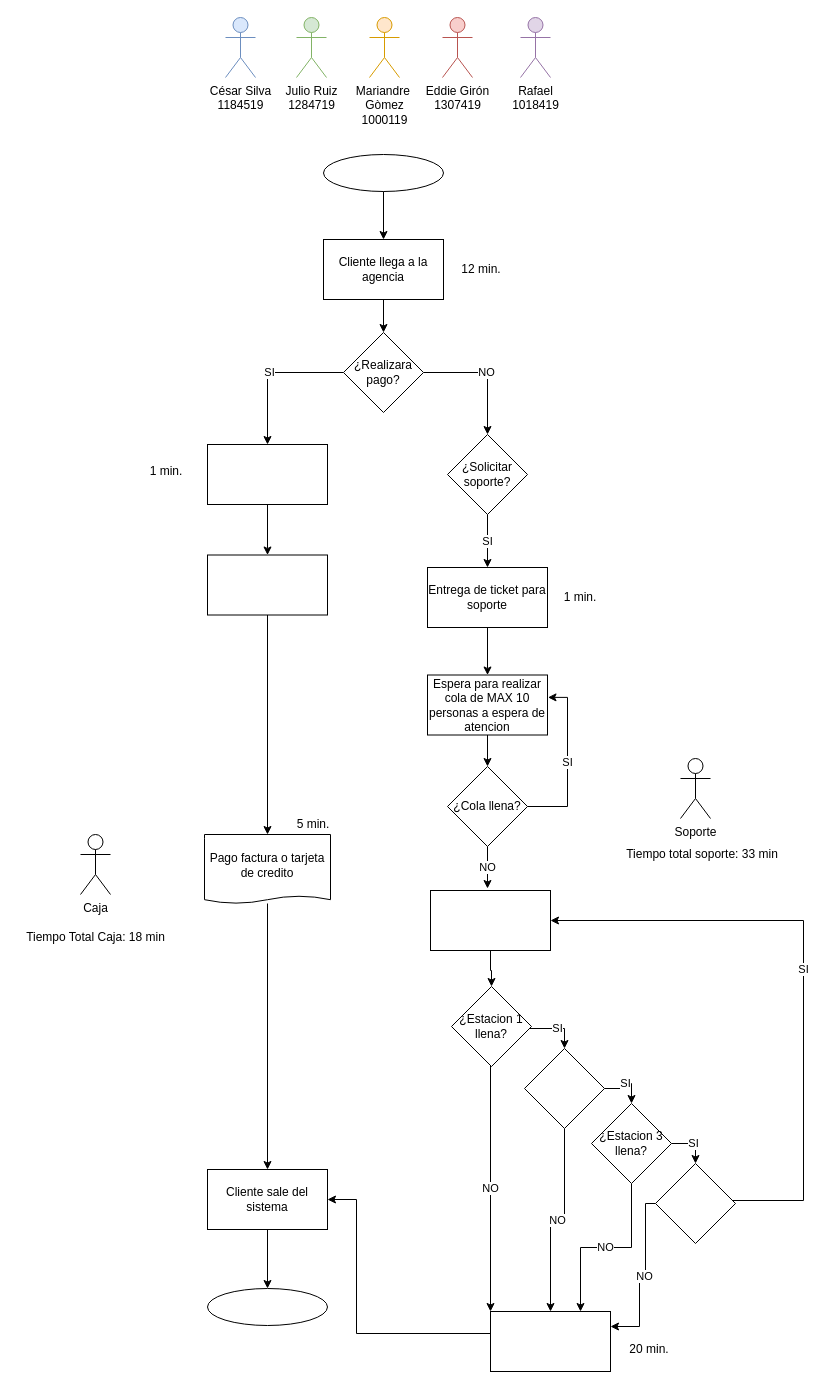
Image size: 829x1389. Some labels were removed from this diagram. The centre of each missing label's shape, as x and y in pixels:
"Entrega de ticket para pago" belongs at pixel 267 474.
"Fin" belongs at pixel 267 1307.
"Inicio" belongs at pixel 383 173.
"Realiza cola" belongs at pixel 490 920.
"Realiza cola general" belongs at pixel 267 584.
"Resoluciòn de problema" belongs at pixel 550 1341.
"¿Estacion 2 llena?" belongs at pixel 564 1088.
"¿Estacion 4 llena?" belongs at pixel 695 1203.
